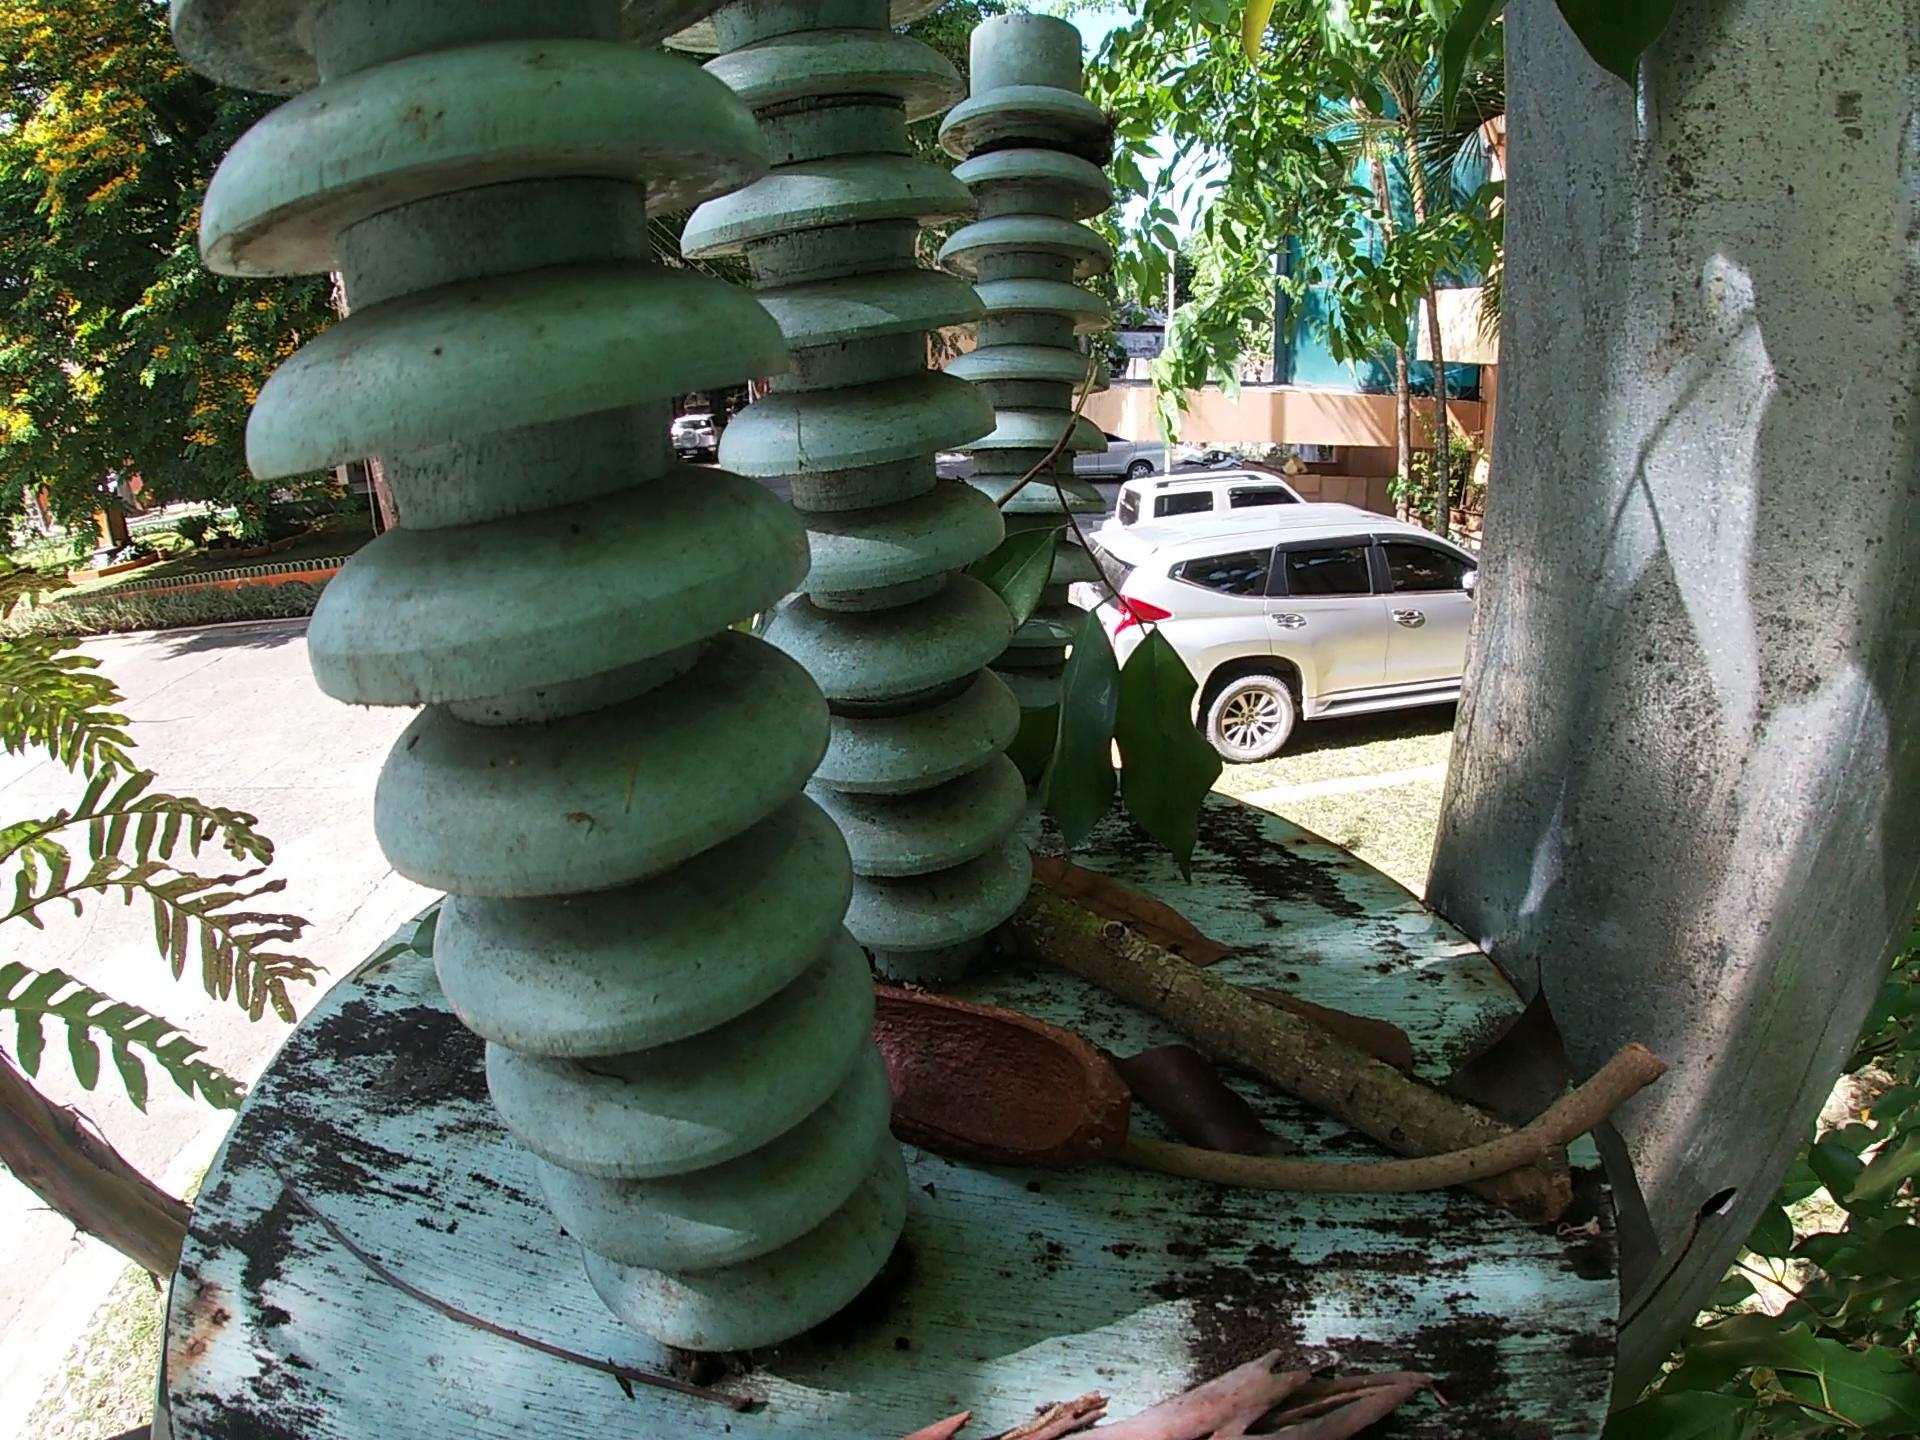branch with leaves: (983, 345, 1235, 880)
leaf: (1020, 839, 1287, 964), (1442, 950, 1580, 1113), (1246, 979, 1427, 1063), (340, 920, 458, 989)
mahogany fruit: (838, 964, 1119, 1180)
tree branch: (1030, 877, 1592, 1221), (252, 1159, 782, 1416), (1117, 1059, 1692, 1184), (856, 1337, 1463, 1438)
